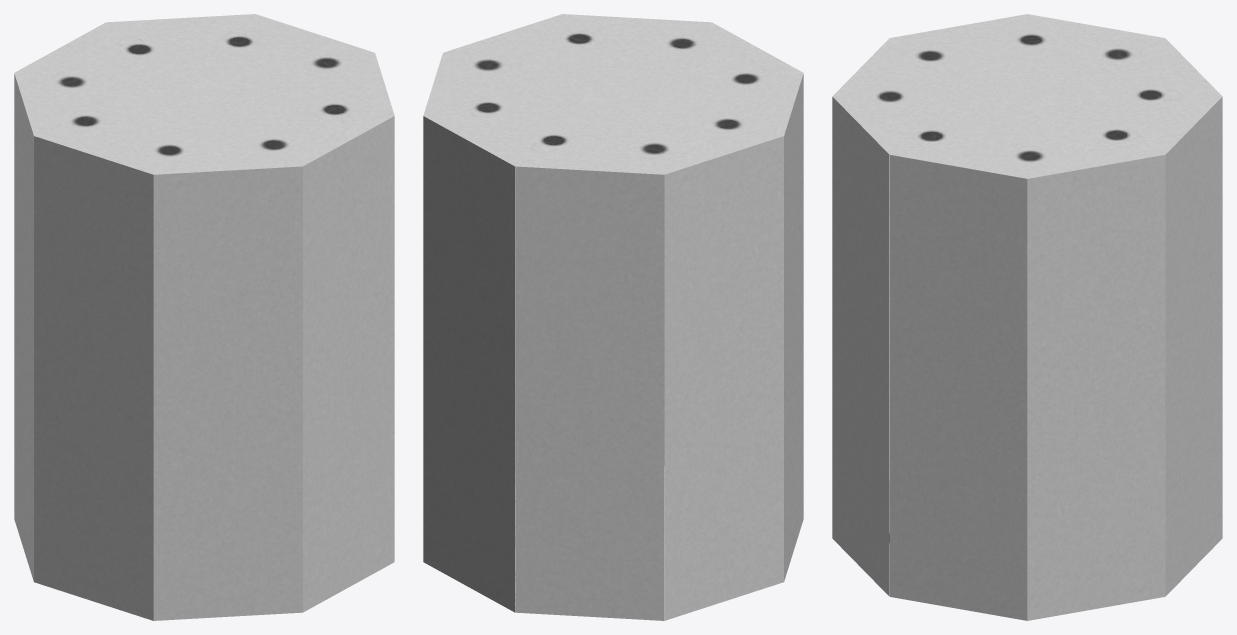
File: windgen_pillar.obj
3 renders of one model, left to right at view 1: azimuth 30°, elevation 25°; view 2: azimuth 150°, elevation 25°; view 3: azimuth 270°, elevation 25°, orthographic.
Parts seen in each view (by area): view 1: windgen_pillar; view 2: windgen_pillar; view 3: windgen_pillar.
Boxes of the visible parts, left/top/right/bottom form: windgen_pillar: left=14, top=14, right=394, bottom=620; windgen_pillar: left=423, top=14, right=803, bottom=620; windgen_pillar: left=832, top=14, right=1222, bottom=620.
Size of the model in its own units: 0.8 by 1 by 0.8.
